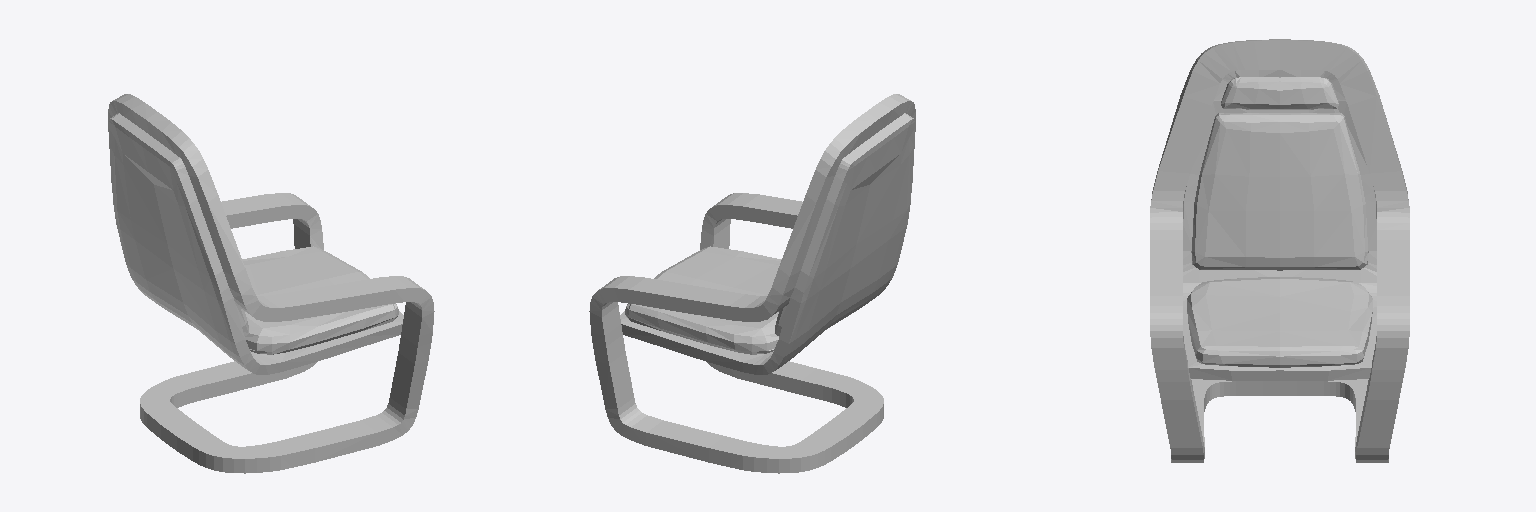
Rendered from StaticMesh_UV1.OBJ.
The picture shows the model from 3 angles: view 1: azimuth 30°, elevation 25°; view 2: azimuth 150°, elevation 25°; view 3: azimuth 270°, elevation 25°; orthographic projection.
Visible parts, largest first — view 1: UnrealEdObject; view 2: UnrealEdObject; view 3: UnrealEdObject.
Boxes of the visible parts, x1,y1,x2,y2 form: UnrealEdObject: [108, 94, 434, 473]; UnrealEdObject: [589, 94, 915, 473]; UnrealEdObject: [1150, 39, 1409, 462].
Bounding box in the file's own units: 82.16 × 115 × 80.9.